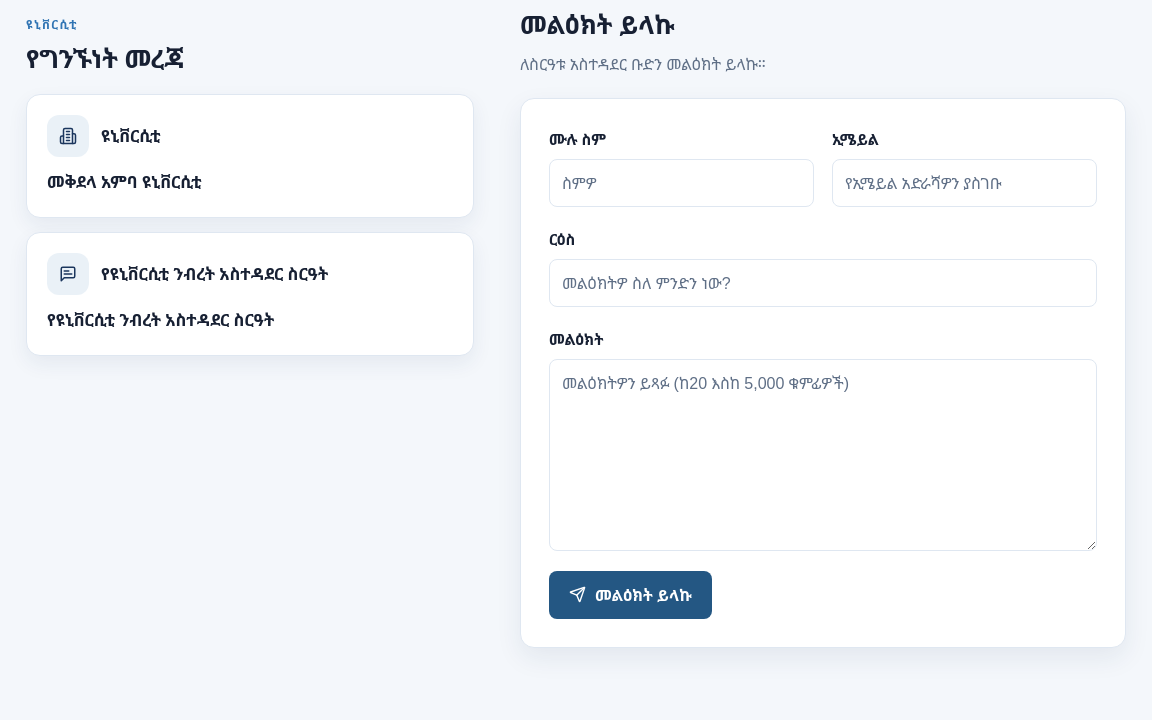
Scenario: Contact › renders headings, labels, placeholders, and validation in Amharic from the shared language setting
(page scrolled)
Expected: the field labelled "ኢሜይል" is shown, [832, 159, 1097, 207]
Click the button "መልዕክት ይላኩ" at (630, 595), box [549, 571, 712, 619]
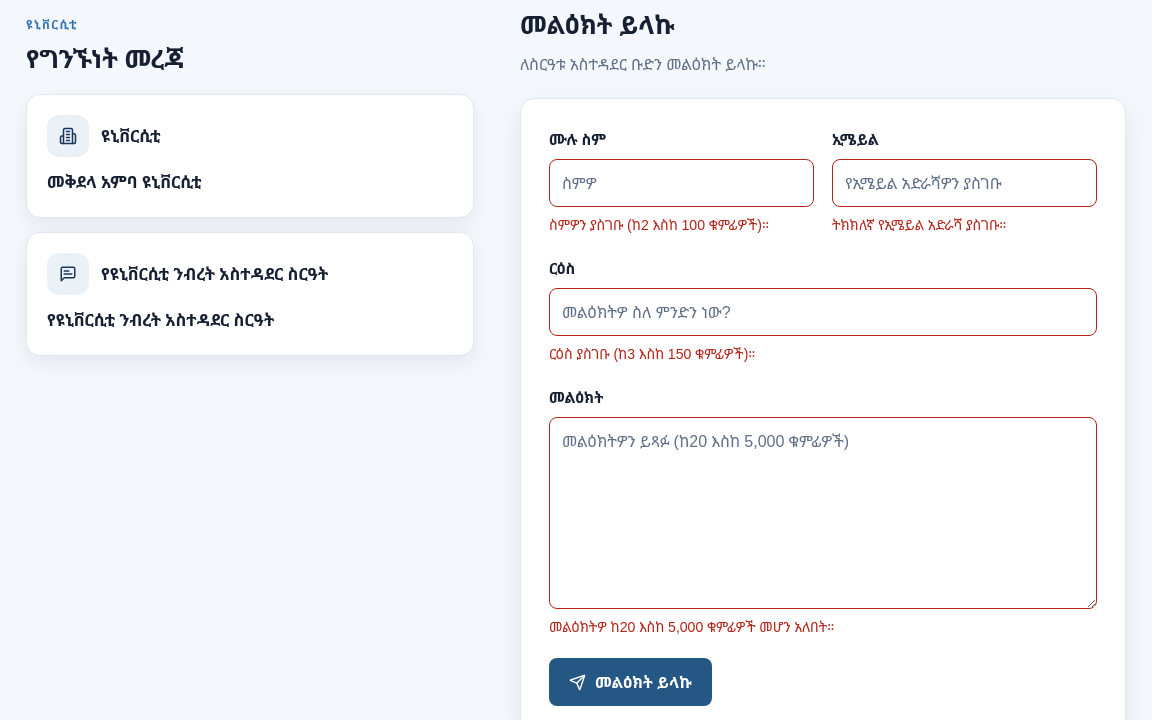
Now the text "ስምዎን ያስገቡ (ከ2 እስከ 100 ቁምፊዎች)።" is shown, box [549, 215, 769, 234]
